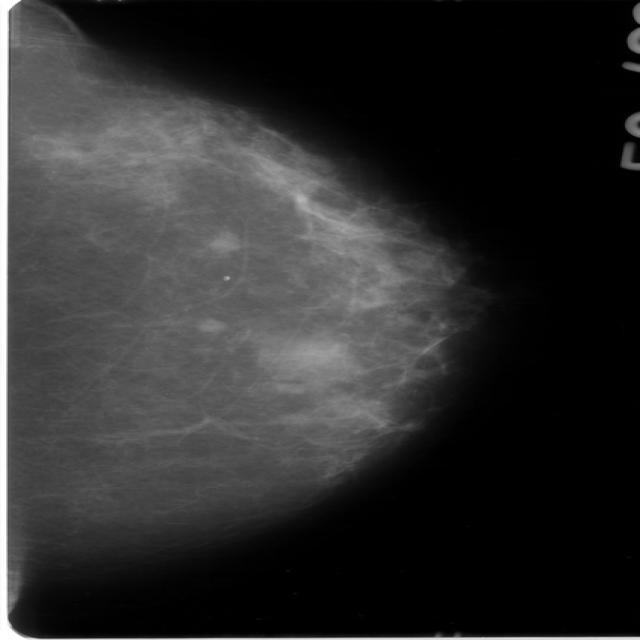tumour: (204, 230, 241, 252)
